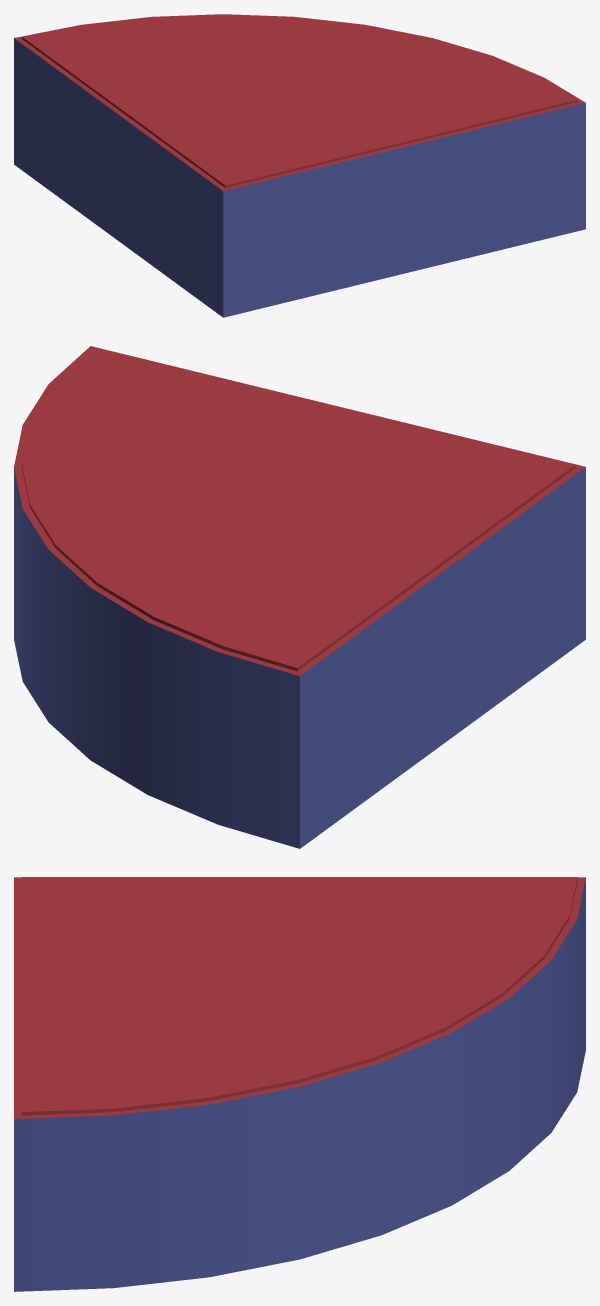
The model's file is SM_Platform_2x2_01x1.fbx.
The picture shows the model from 3 angles, top to bottom: view 1: azimuth 30°, elevation 25°; view 2: azimuth 150°, elevation 25°; view 3: azimuth 270°, elevation 25°; orthographic projection. The views are drawn at different scales.
Parts seen in each view (by area): view 1: SM_Platform_2x2_01x1; view 2: SM_Platform_2x2_01x1; view 3: SM_Platform_2x2_01x1.
Boxes of the visible parts, left/top/right/bottom form: SM_Platform_2x2_01x1: left=14, top=14, right=585, bottom=317; SM_Platform_2x2_01x1: left=14, top=346, right=585, bottom=848; SM_Platform_2x2_01x1: left=14, top=877, right=585, bottom=1291.
Size of the model in its own units: 300 by 102 by 300.
